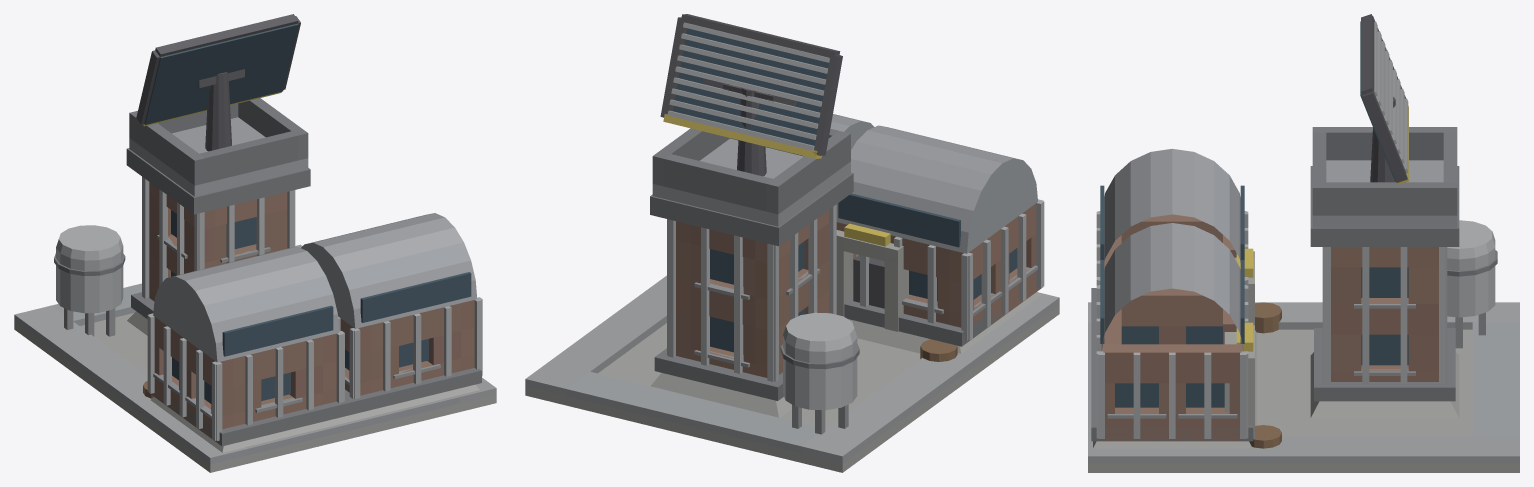
Rendered from chinese_radar.glb.
The picture shows the model from 3 angles, left to right: view 1: azimuth 30°, elevation 25°; view 2: azimuth 150°, elevation 25°; view 3: azimuth 270°, elevation 25°; orthographic projection. The views are drawn at different scales.
Visible parts, largest first — view 1: radar, shed0_vault_vault, shed1_vault_vault, apron_rim, shed0_wall, tower_parapet, water_tank, shed1_wall, apron, shed0_ribs, tower_wall, shed_plinth_cap (+11 smaller); view 2: apron_rim, radar, shed0_vault_vault, tower_wall, apron, shed0_wall, tower_parapet, tower_ribs, water_tank, shed0_ribs, tower_fascia, tower_deck (+13 smaller); view 3: apron_rim, shed1_wall, apron, tower_wall, tower_parapet, shed1_vault_vault, shed0_vault_vault, radar, tower_ribs, water_tank, shed1_ribs, tower_plinth_cap (+14 smaller).
Boxes of the visible parts, left/top/right/bottom form: radar: left=136, top=14, right=300, bottom=151; shed0_vault_vault: left=153, top=246, right=339, bottom=362; shed1_vault_vault: left=301, top=213, right=477, bottom=328; apron_rim: left=14, top=244, right=496, bottom=464; shed0_wall: left=153, top=317, right=336, bottom=442; tower_parapet: left=129, top=98, right=308, bottom=185; water_tank: left=54, top=225, right=125, bottom=336; shed1_wall: left=340, top=300, right=474, bottom=395; apron: left=14, top=313, right=496, bottom=472; shed0_ribs: left=147, top=313, right=344, bottom=440; tower_wall: left=149, top=182, right=287, bottom=300; shed_plinth_cap: left=149, top=368, right=481, bottom=446; apron_rim: left=525, top=275, right=1059, bottom=463; radar: left=660, top=14, right=842, bottom=176; shed0_vault_vault: left=836, top=125, right=1037, bottom=253; tower_wall: left=676, top=210, right=828, bottom=377; apron: left=525, top=305, right=1059, bottom=472; shed0_wall: left=836, top=203, right=1037, bottom=331; tower_parapet: left=652, top=128, right=850, bottom=214; tower_ribs: left=667, top=204, right=836, bottom=381; water_tank: left=780, top=312, right=859, bottom=434; shed0_ribs: left=860, top=199, right=1044, bottom=340; tower_fascia: left=650, top=172, right=853, bottom=246; tower_deck: left=652, top=138, right=850, bottom=226; apron_rim: left=1088, top=302, right=1519, bottom=463; shed1_wall: left=1101, top=288, right=1254, bottom=441; apron: left=1088, top=329, right=1519, bottom=472; tower_wall: left=1331, top=247, right=1438, bottom=381; tower_parapet: left=1312, top=127, right=1457, bottom=215; shed1_vault_vault: left=1101, top=223, right=1243, bottom=351; shed0_vault_vault: left=1104, top=148, right=1240, bottom=262; radar: left=1360, top=14, right=1408, bottom=184; tower_ribs: left=1322, top=247, right=1447, bottom=383; water_tank: left=1447, top=220, right=1497, bottom=348; shed1_ribs: left=1096, top=285, right=1248, bottom=438; tower_plinth_cap: left=1314, top=328, right=1455, bottom=401.
Bounding box in the file's own units: 10.8 × 11.28 × 12.8.
